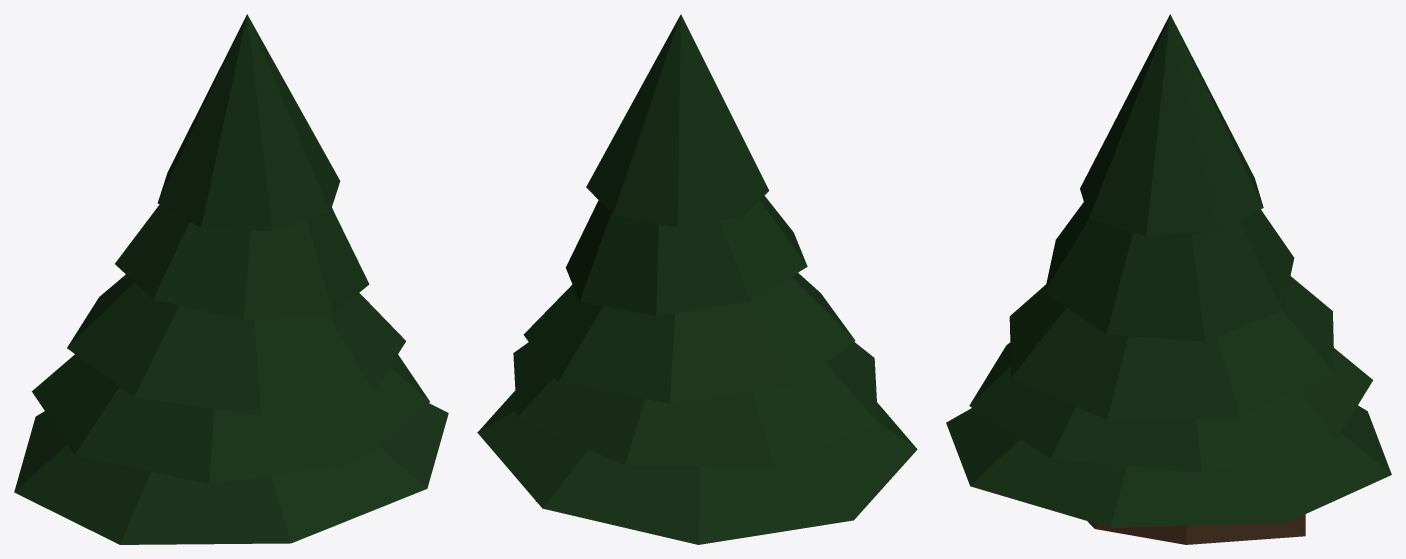
The model's file is pine2.fbx.
The picture shows the model from 3 angles, left to right: view 1: azimuth 30°, elevation 25°; view 2: azimuth 150°, elevation 25°; view 3: azimuth 270°, elevation 25°; orthographic projection. The views are drawn at different scales.
Parts seen in each view (by area): view 1: Cone.004; view 2: Cone.004; view 3: Cone.004.
Part boxes in pixels (x1,y1,x2,y2): Cone.004: [14, 14, 448, 544]; Cone.004: [477, 14, 917, 544]; Cone.004: [946, 14, 1391, 544].
Bounding box in the file's own units: 332 × 396 × 333.
